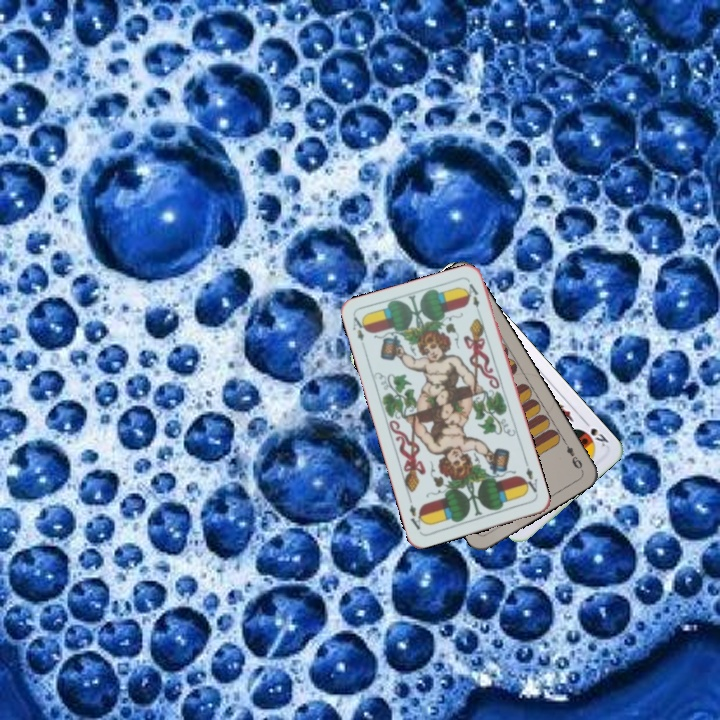E9: (559, 436, 585, 472)
EA: (518, 458, 540, 498), (349, 313, 370, 344)
SK: (577, 416, 611, 449)
